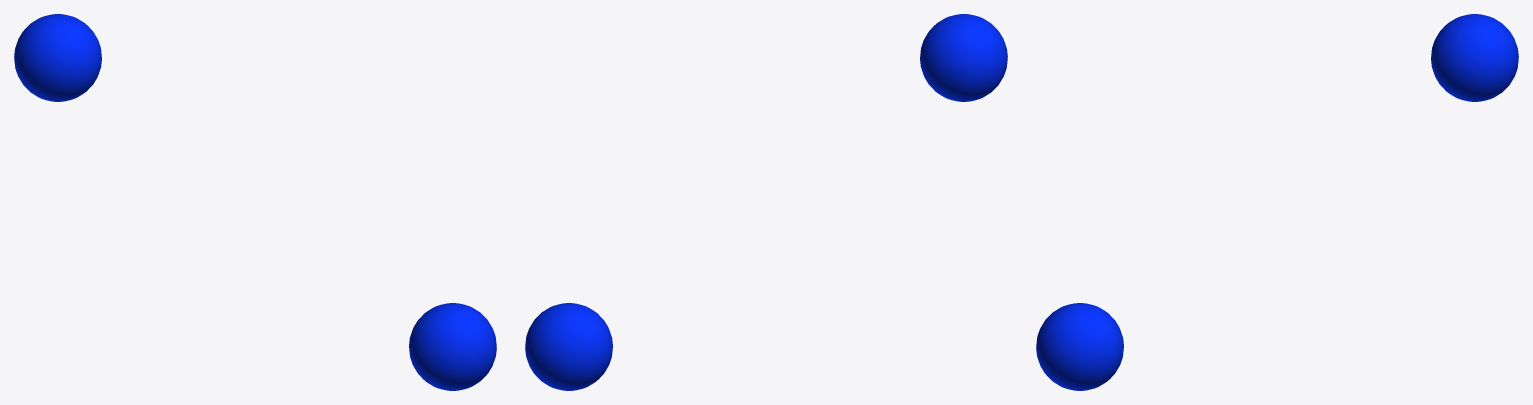
3 views of the same model, side by side, from view 1: azimuth 30°, elevation 25°; view 2: azimuth 150°, elevation 25°; view 3: azimuth 330°, elevation 25° (orthographic).
Parts seen in each view (by area): view 1: Sphere046; view 2: Sphere046; view 3: Sphere046.
Boxes of the visible parts, x1,y1,x2,y2 form: Sphere046: (14,14,496,390); Sphere046: (525,14,1007,390); Sphere046: (1036,14,1518,390).
Size of the model in its own units: 8.22 by 8.22 by 81.88.
